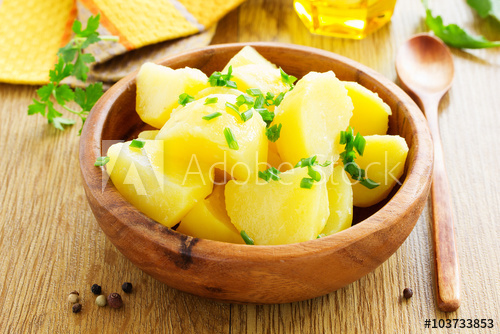boiled potatoes: (114, 64, 411, 232)
